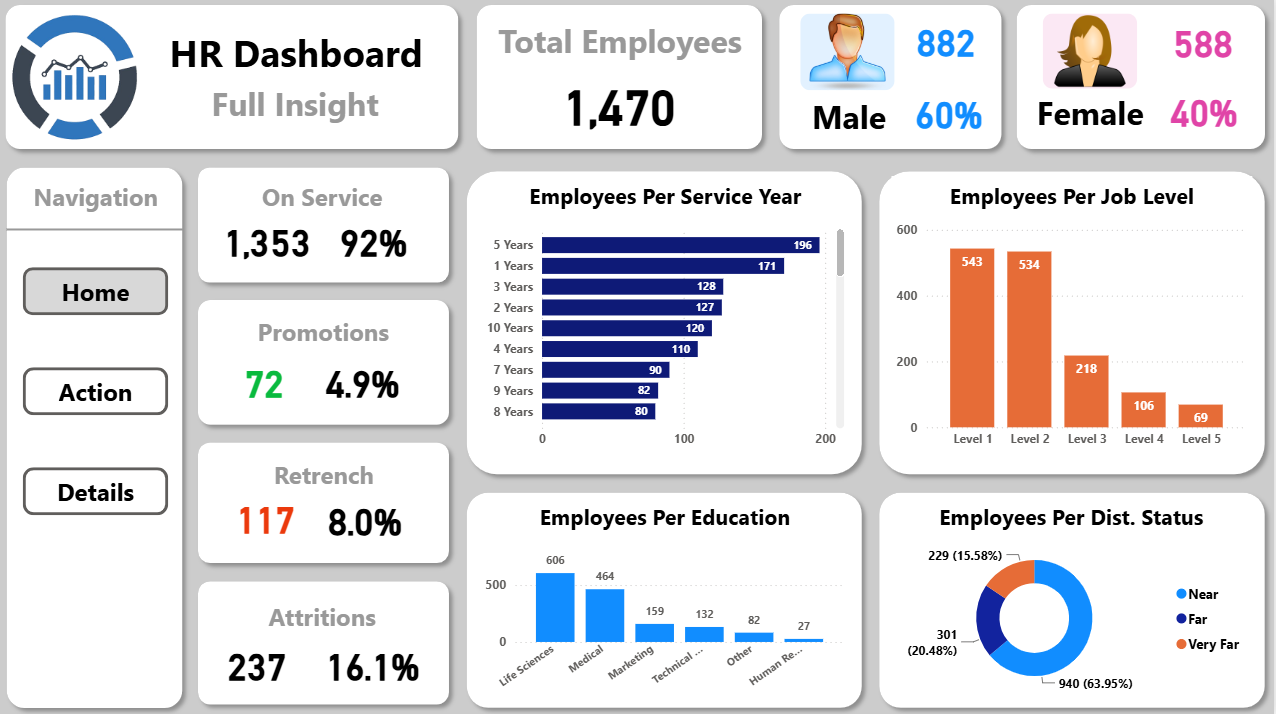

Layout of this report page (visuals, bound fields, positions):
{"tool":"powerbi","page":{"name":"Home","canvas":[1280,720],"ordinal":0},"visuals":[{"type":"shape","box":[4.1,161.9,193.5,558.5],"z":0},{"type":"shape","box":[2.7,0,470.7,161.9],"z":1000},{"type":"textbox","box":[164.7,26.1,274.4,60.4],"z":2000},{"type":"image","box":[17.8,12.3,126.2,137.2],"z":3000},{"type":"shape","box":[473.4,0,303.3,161.9],"z":4000},{"type":"textbox","box":[495.4,17.8,262.1,52.1],"z":5000},{"type":"card","fields":{"Values":["DAX Measures.# Employees"]},"box":[558.5,75.5,133.1,63.1],"z":6000},{"type":"shape","box":[776.7,0,240.1,161.9],"z":7000},{"type":"textbox","box":[812.4,93.3,85.1,52.1],"z":8000},{"type":"card","fields":{"Values":["DAX Measures.# Males"]},"box":[907,19.2,89.2,50.8],"z":9000},{"type":"card","fields":{"Values":["DAX Measures.% Males"]},"box":[913.9,93.3,82.3,45.3],"z":10000},{"type":"shape","box":[1014.1,0,266.2,161.9],"z":11000},{"type":"textbox","box":[1031.9,90.6,127.6,52.1],"z":12000},{"type":"card","fields":{"Values":["DAX Measures.% Females"]},"box":[1160.9,86.4,97.4,56.3],"z":13000},{"type":"card","fields":{"Values":["DAX Measures.# Females"]},"box":[1159.5,17.8,97.4,56.3],"z":14000},{"type":"image","box":[806.9,17.8,94.7,76.8],"z":15000},{"type":"image","box":[1048.4,17.8,94.7,75.5],"z":16000},{"type":"textbox","box":[197.6,81,207.2,52.1],"z":17000},{"type":"shape","box":[463.8,166,413,321.1],"z":18000},{"type":"shape","box":[194.9,161.9,269,133.1],"z":19000},{"type":"textbox","box":[242.9,179.8,171.5,42],"z":20000},{"type":"card","fields":{"Values":["DAX Measures.# Workers"]},"box":[223.7,219.6,98.8,48],"z":21000},{"type":"card","fields":{"Values":["DAX Measures.% Workers"]},"box":[328,219.6,104.3,48],"z":22000},{"type":"shape","box":[194.9,295,269,142.7],"z":23000},{"type":"shape","box":[194.9,437.7,269,138.6],"z":24000},{"type":"textbox","box":[231.9,315.6,193.5,42],"z":25000},{"type":"card","fields":{"Values":["DAX Measures.# Promotions"]},"box":[231.9,359.5,75.5,50.8],"z":26000},{"type":"card","fields":{"Values":["DAX Measures.% Promotions"]},"box":[314.2,359.5,109.8,50.8],"z":27000},{"type":"textbox","box":[233.3,456.9,192.1,42],"z":28000},{"type":"card","fields":{"Values":["DAX Measures.# Retrenchments"]},"box":[233.3,496.7,75.5,50.8],"z":29000},{"type":"card","fields":{"Values":["DAX Measures.% Retrenchments"]},"box":[301.9,498.1,137.2,50.8],"z":30000},{"type":"shape","box":[876.8,166,403.4,321.1],"z":31000},{"type":"shape","box":[876.8,487.1,403.4,233.3],"z":32000},{"type":"textbox","box":[502.2,179.8,337.6,40],"z":33000},{"type":"clusteredBarChart","fields":{"Category":["HR Analytics Data.ServiceYears"],"Y":["DAX Measures.# Employees"]},"box":[485.8,219.6,369.1,241.5],"z":34000},{"type":"textbox","box":[897.4,179.8,360.9,39.8],"z":35000},{"type":"columnChart","fields":{"Category":["HR Analytics Data.JobRoleLevel"],"Y":["DAX Measures.# Employees"]},"box":[897.4,219.6,360.9,241.5],"z":36000},{"type":"textbox","box":[897.4,500.9,359.5,40],"z":37000},{"type":"donutChart","fields":{"Category":["HR Analytics Data.DistanceStatus"],"Y":["DAX Measures.# Employees"]},"box":[894.7,540.7,365,161.9],"z":38000},{"type":"shape","box":[194.9,576.3,269,141.3],"z":39000},{"type":"textbox","box":[244.3,599.7,168.8,42.5],"z":40000},{"type":"card","fields":{"Values":["DAX Measures.# Attritions"]},"box":[223.7,642.2,78.2,50.8],"z":41000},{"type":"card","fields":{"Values":["DAX Measures.% Attritions"]},"box":[322.5,642.2,112.5,50.8],"z":42000},{"type":"shape","box":[463.8,487.1,413,233.3],"z":43000},{"type":"textbox","box":[491.3,500.9,359.5,39.8],"z":44000},{"type":"columnChart","fields":{"Category":["HR Analytics Data.EducationField"],"Y":["DAX Measures.# Employees"]},"box":[485.8,540.7,369.1,161.9],"z":45000},{"type":"textbox","box":[26.1,179.8,150.9,42.5],"z":46000},{"type":"shape","box":[12.3,222.3,177,22],"z":47000},{"type":"bookmarkNavigator","box":[0,0,600,50],"z":48000},{"type":"actionButton","box":[28.8,271.7,145.5,48],"z":49000},{"type":"actionButton","box":[28.8,371,145.5,48],"z":50000},{"type":"actionButton","box":[28.8,471,145.5,48],"z":51000}]}

Visuals, with their boxes in screenshot pixels (x1, y1, x2, y2), scaled from the page's 1280x720 canvas onto the 1276x714 screenshot:
shape: select_region(4, 161, 197, 713)
shape: select_region(3, 0, 472, 161)
textbox: select_region(164, 26, 438, 86)
image: select_region(18, 12, 144, 148)
shape: select_region(472, 0, 774, 161)
textbox: select_region(494, 18, 755, 69)
card - DAX Measures.# Employees: select_region(557, 75, 689, 137)
shape: select_region(774, 0, 1014, 161)
textbox: select_region(810, 93, 895, 144)
card - DAX Measures.# Males: select_region(904, 19, 993, 69)
card - DAX Measures.% Males: select_region(911, 93, 993, 137)
shape: select_region(1011, 0, 1275, 161)
textbox: select_region(1029, 90, 1156, 142)
card - DAX Measures.% Females: select_region(1157, 86, 1254, 142)
card - DAX Measures.# Females: select_region(1156, 18, 1253, 73)
image: select_region(804, 18, 899, 94)
image: select_region(1045, 18, 1140, 93)
textbox: select_region(197, 80, 404, 132)
shape: select_region(462, 165, 874, 483)
shape: select_region(194, 161, 462, 293)
textbox: select_region(242, 178, 413, 220)
card - DAX Measures.# Workers: select_region(223, 218, 321, 265)
card - DAX Measures.% Workers: select_region(327, 218, 431, 265)
shape: select_region(194, 293, 462, 434)
shape: select_region(194, 434, 462, 571)
textbox: select_region(231, 313, 424, 355)
card - DAX Measures.# Promotions: select_region(231, 357, 306, 407)
card - DAX Measures.% Promotions: select_region(313, 357, 423, 407)
textbox: select_region(233, 453, 424, 495)
card - DAX Measures.# Retrenchments: select_region(233, 493, 308, 543)
card - DAX Measures.% Retrenchments: select_region(301, 494, 438, 544)
shape: select_region(874, 165, 1275, 483)
shape: select_region(874, 483, 1275, 713)
textbox: select_region(501, 178, 837, 218)
clusteredBarChart - HR Analytics Data.ServiceYears x DAX Measures.# Employees: select_region(484, 218, 852, 457)
textbox: select_region(895, 178, 1254, 218)
columnChart - HR Analytics Data.JobRoleLevel x DAX Measures.# Employees: select_region(895, 218, 1254, 457)
textbox: select_region(895, 497, 1253, 536)
donutChart - HR Analytics Data.DistanceStatus x DAX Measures.# Employees: select_region(892, 536, 1256, 697)
shape: select_region(194, 571, 462, 712)
textbox: select_region(244, 595, 412, 637)
card - DAX Measures.# Attritions: select_region(223, 637, 301, 687)
card - DAX Measures.% Attritions: select_region(321, 637, 434, 687)
shape: select_region(462, 483, 874, 713)
textbox: select_region(490, 497, 848, 536)
columnChart - HR Analytics Data.EducationField x DAX Measures.# Employees: select_region(484, 536, 852, 697)
textbox: select_region(26, 178, 176, 220)
shape: select_region(12, 220, 189, 242)
bookmarkNavigator: select_region(0, 0, 598, 50)
actionButton: select_region(29, 269, 174, 317)
actionButton: select_region(29, 368, 174, 416)
actionButton: select_region(29, 467, 174, 515)
